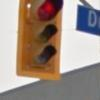traffic lights: (17, 0, 63, 81)
